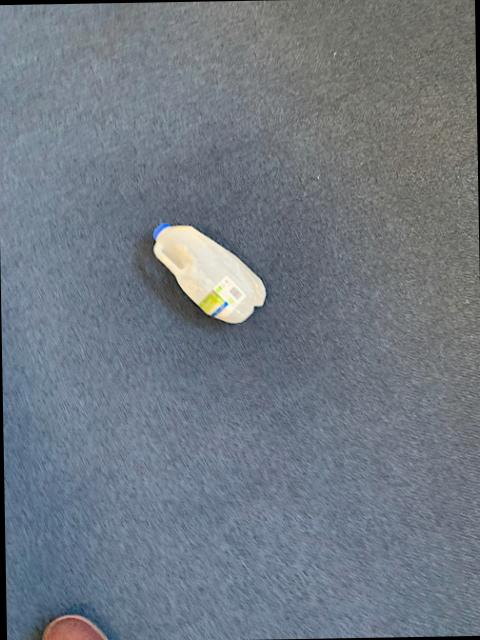plastic: (151, 223, 262, 320)
